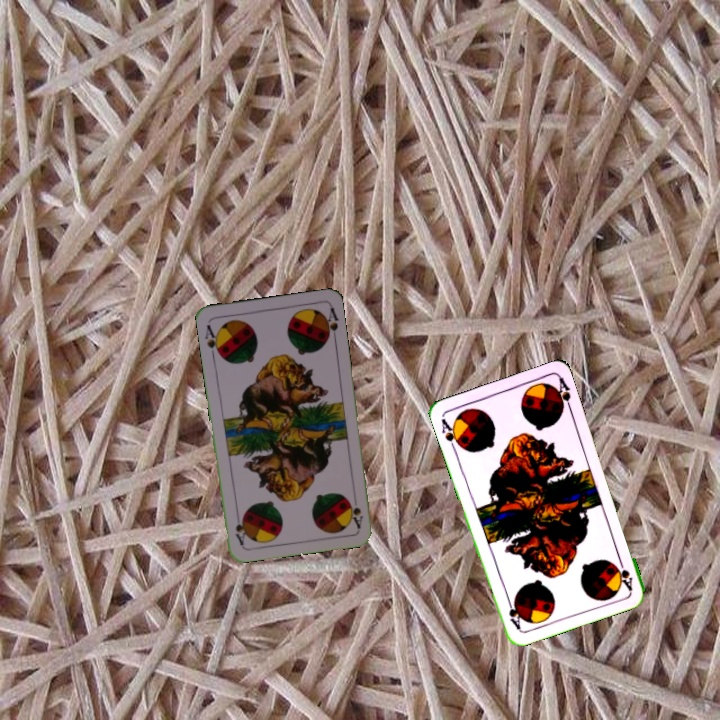SA: (437, 414, 464, 454), (611, 553, 635, 593), (201, 320, 224, 360), (345, 496, 365, 531)
